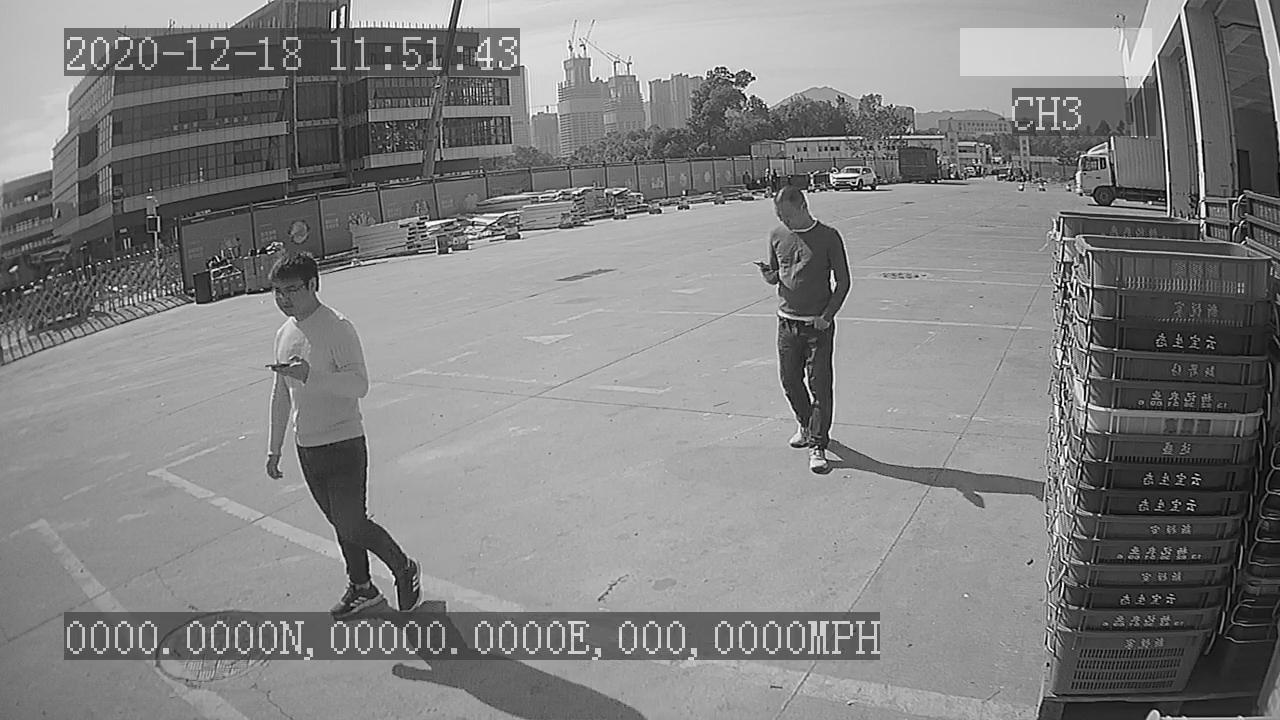person: (245, 244, 433, 613), (743, 179, 859, 481)
